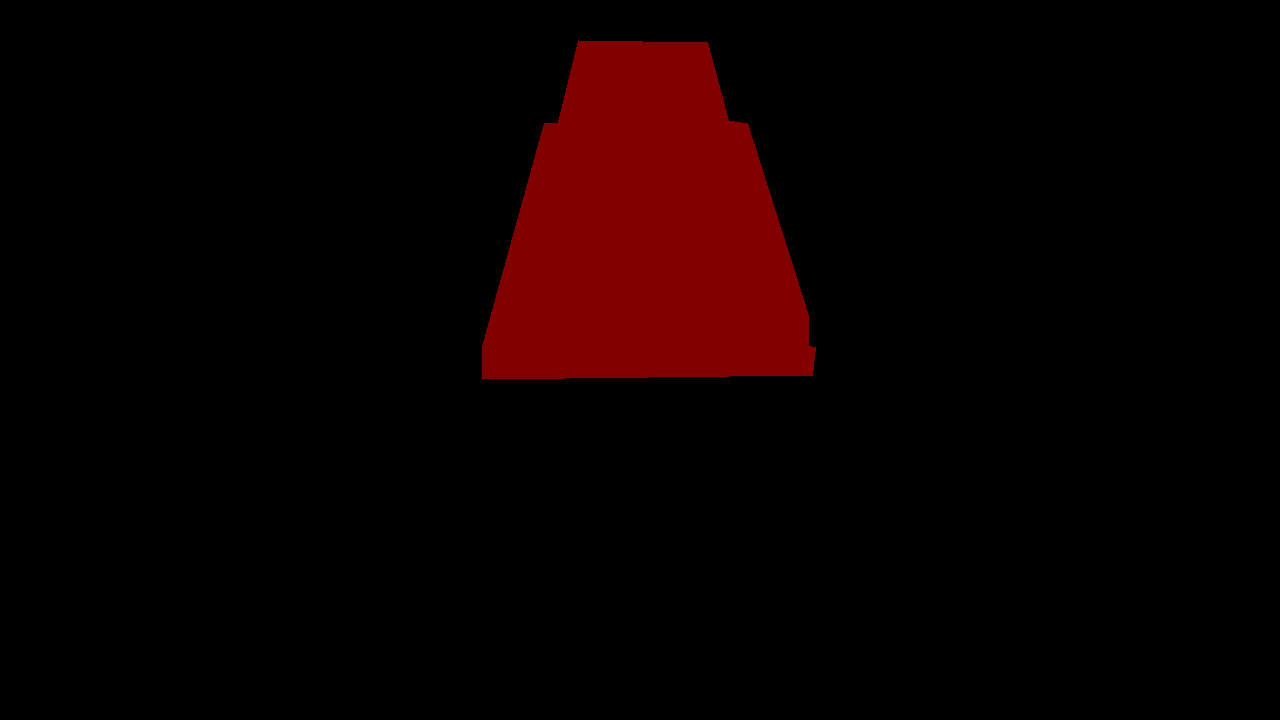stair: (482, 40, 815, 379)
